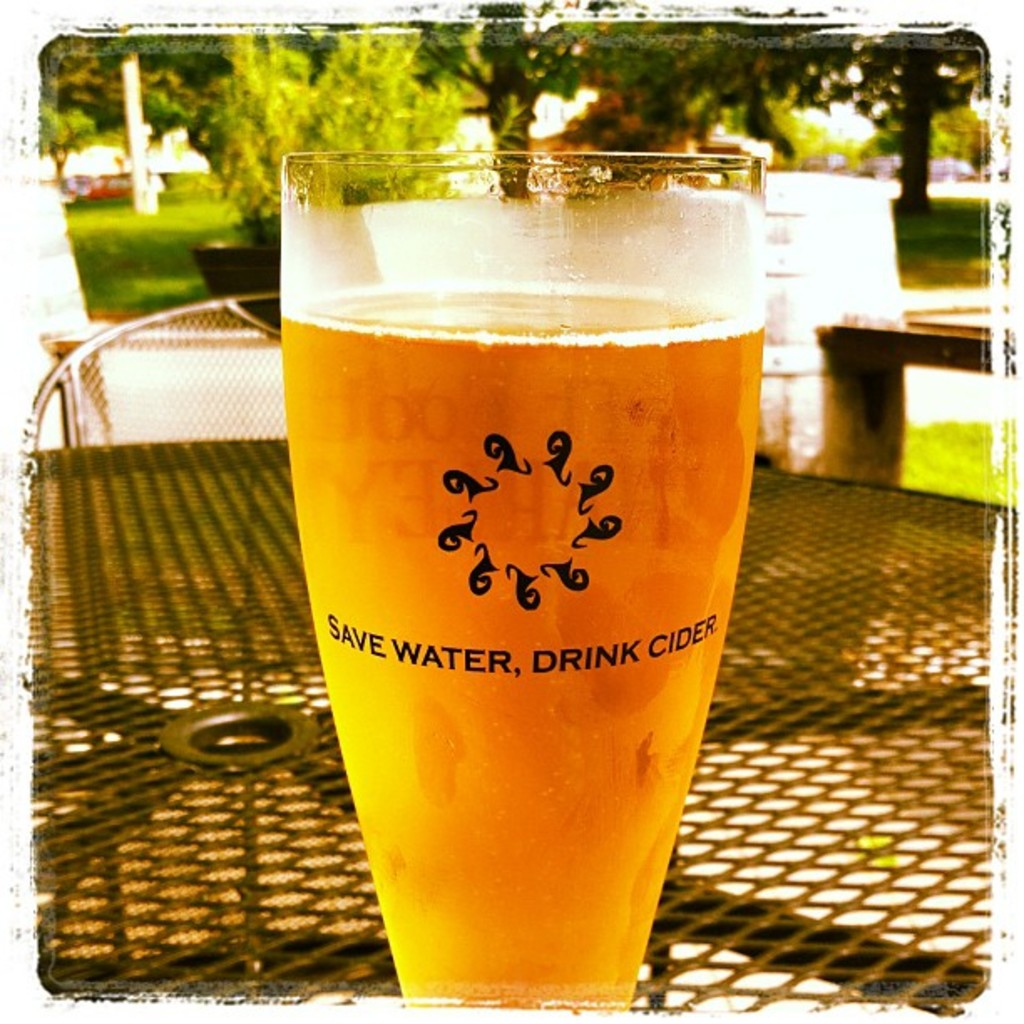Beer: (281, 138, 776, 1017)
